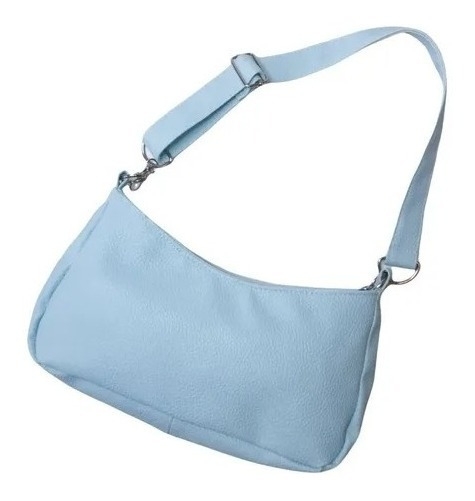cartera: (23, 24, 448, 473)
